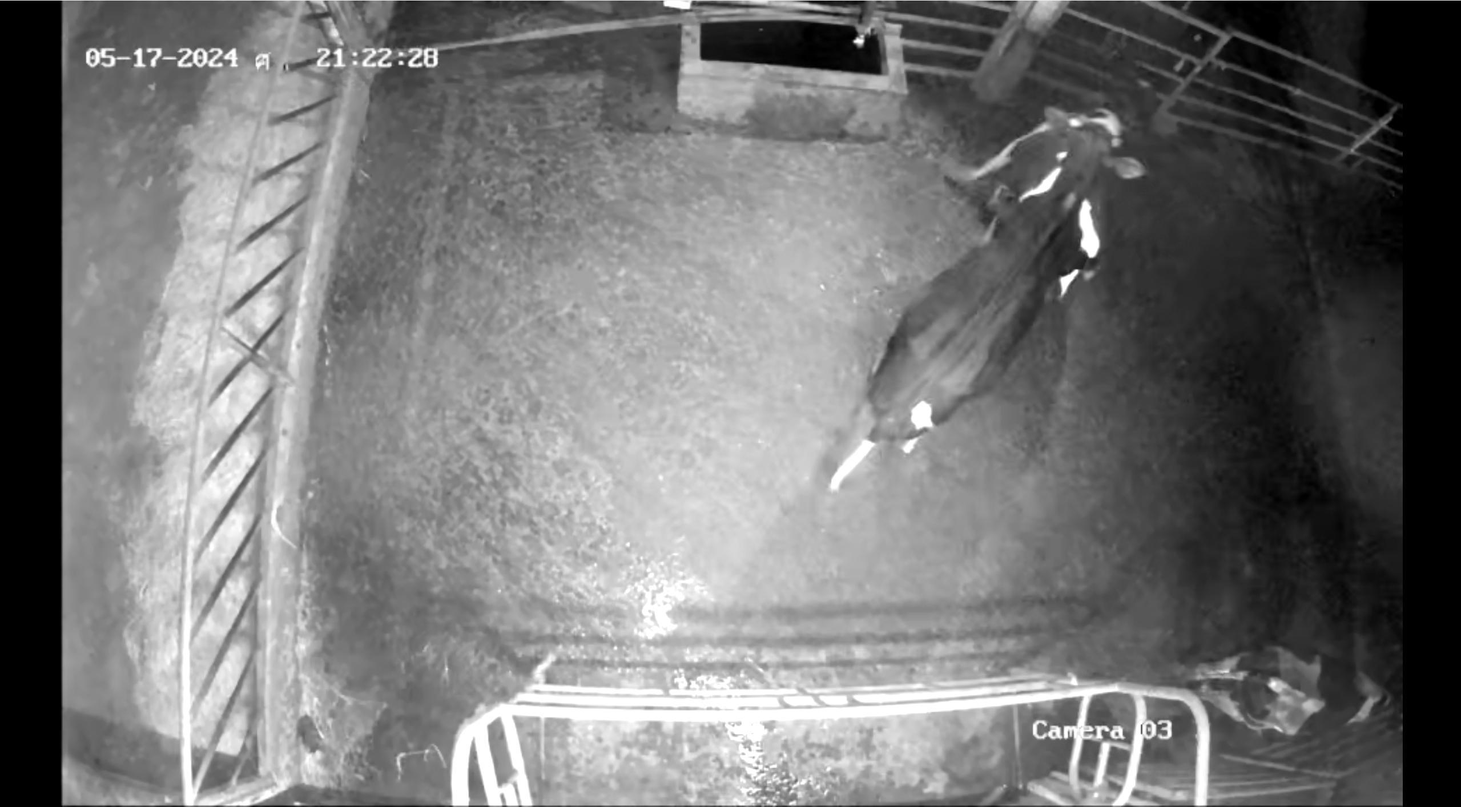ride: (804, 102, 1114, 511)
stand: (961, 98, 1132, 297)
